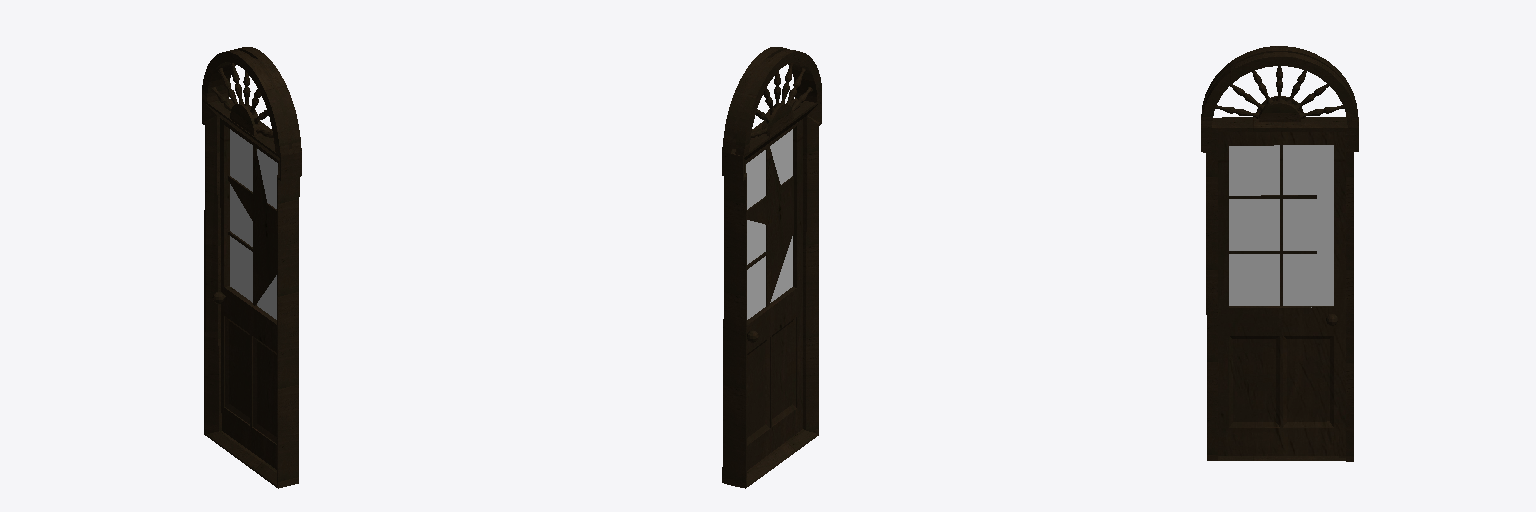
3 views of the same model, side by side, from view 1: azimuth 30°, elevation 25°; view 2: azimuth 150°, elevation 25°; view 3: azimuth 270°, elevation 25° (orthographic).
Visible parts, largest first — view 1: Frame; view 2: Frame; view 3: Frame.
Boxes of the visible parts, x1=… form: Frame: x1=202, y1=47, x2=301, y2=488; Frame: x1=722, y1=47, x2=821, y2=488; Frame: x1=1201, y1=46, x2=1358, y2=461.
Bounding box in the file's own units: 22.1 × 260 × 91.94.
2 materials, 1 textured.